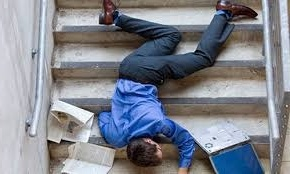fall: (89, 1, 270, 173)
